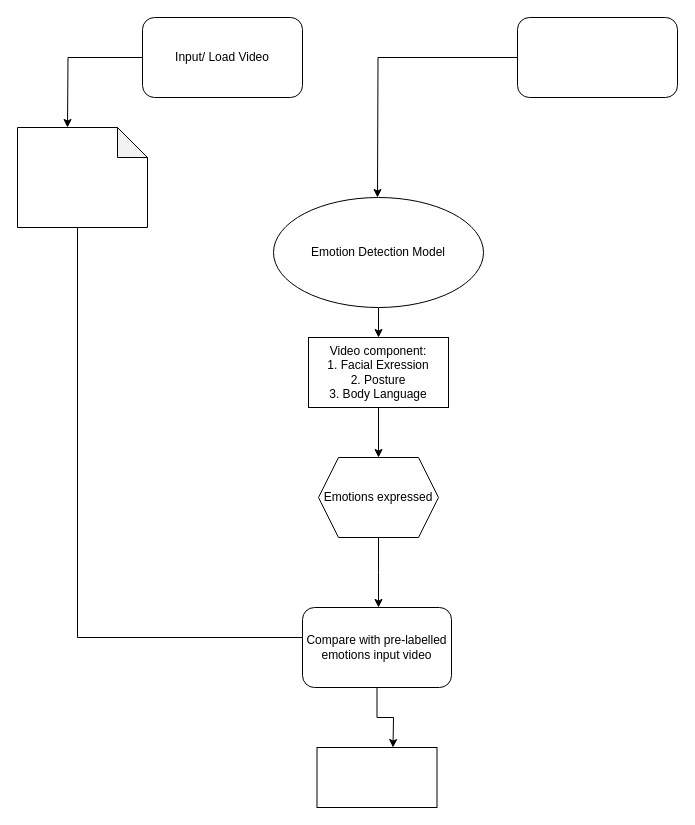
Some shapes in this 695 by 825 pixel diagram are drawn without their labels. The shapes that lost their labels are listed below. From the top down, each one's centre as x and y in pixels, then its label:
the point at 597,57: Video Capture of Candidate
the point at 82,177: Video has, pre-defined labels for emotions and expressions
the point at 376,777: Score
